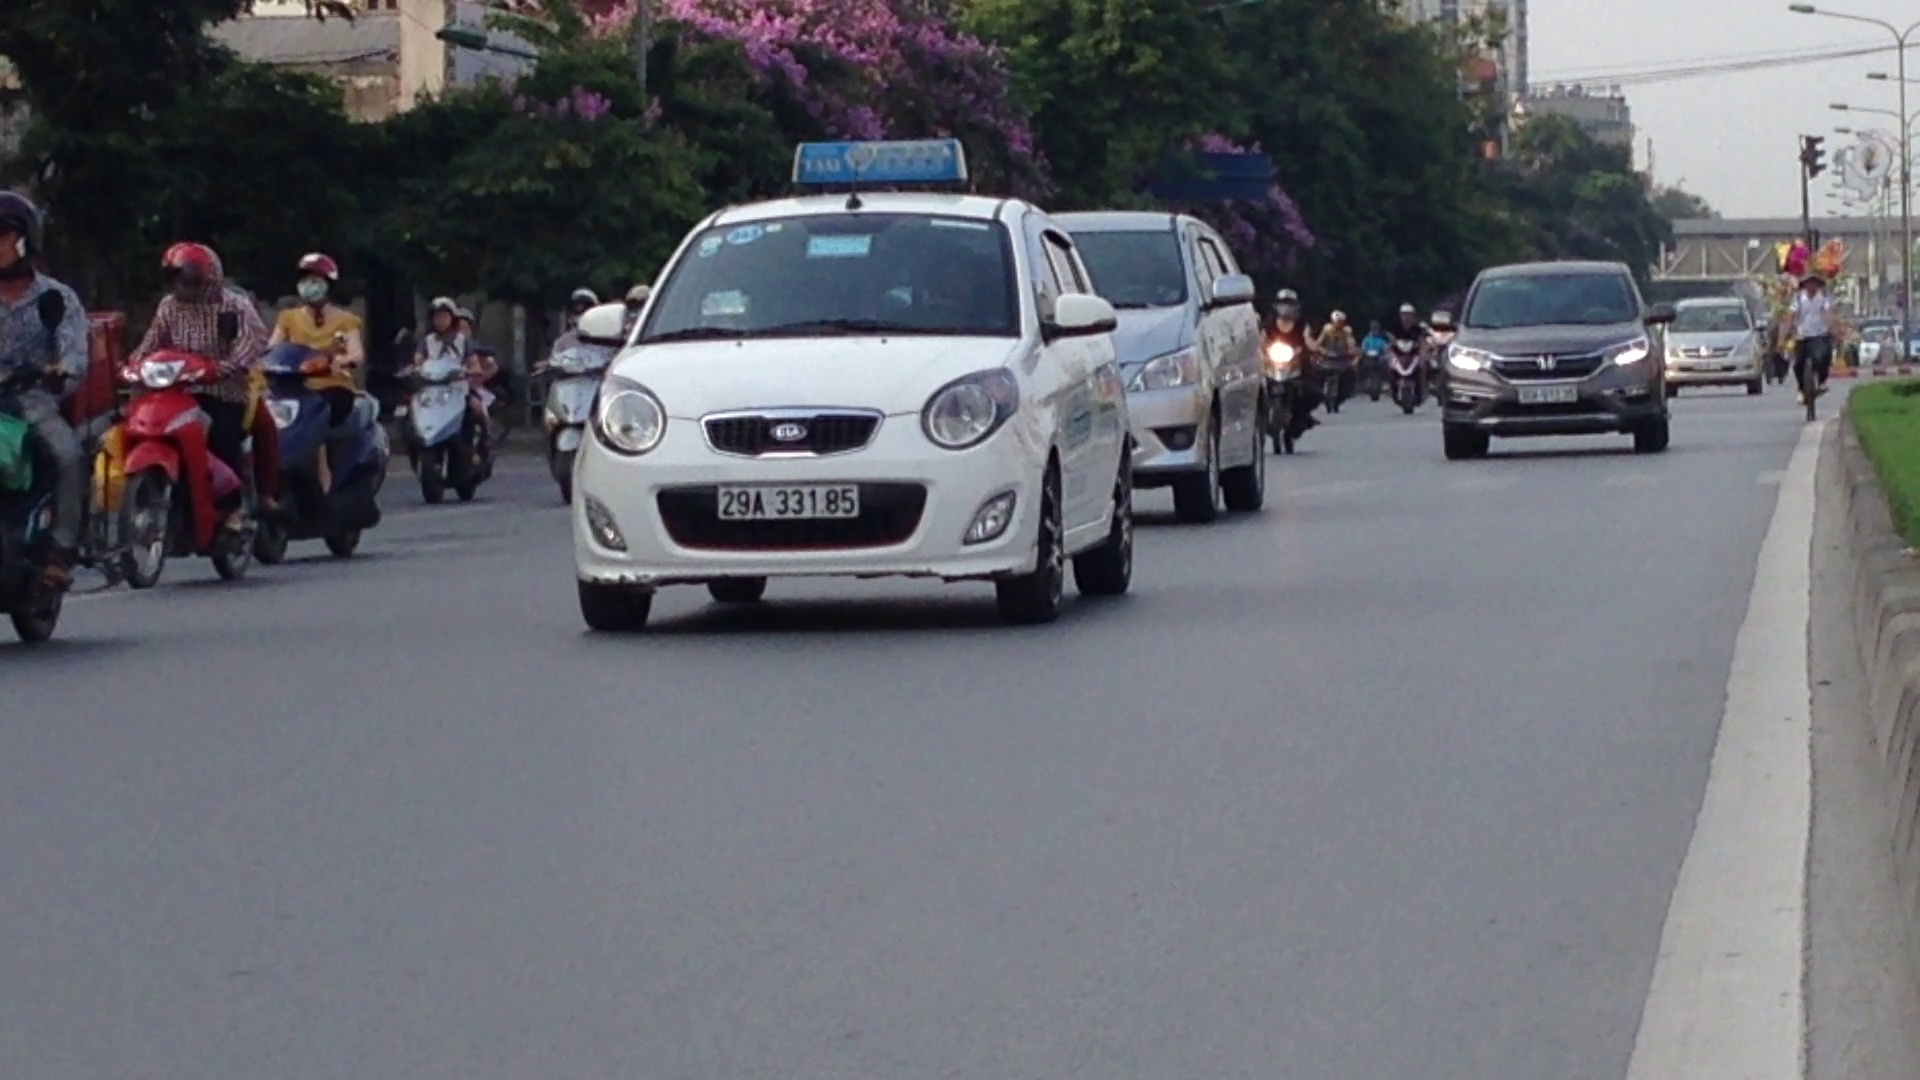vehicle-plate: (715, 481, 863, 521), (1516, 382, 1582, 403)
